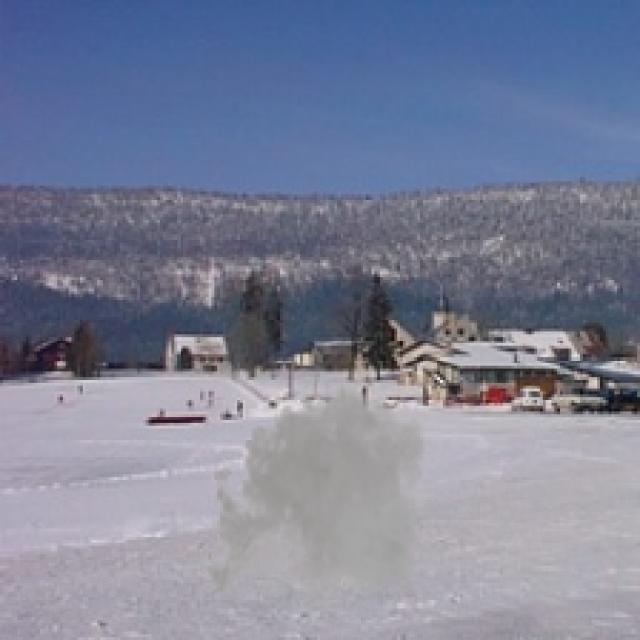smoke: (197, 369, 440, 637)
